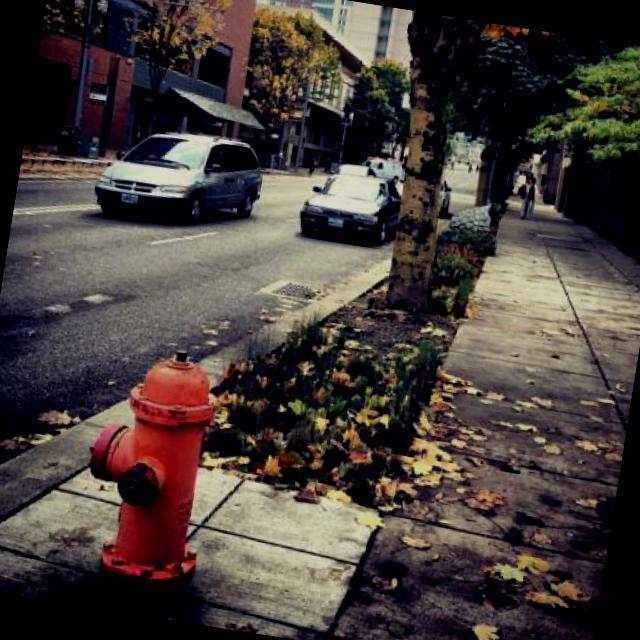Person: (514, 176, 538, 217), (306, 154, 318, 177)
